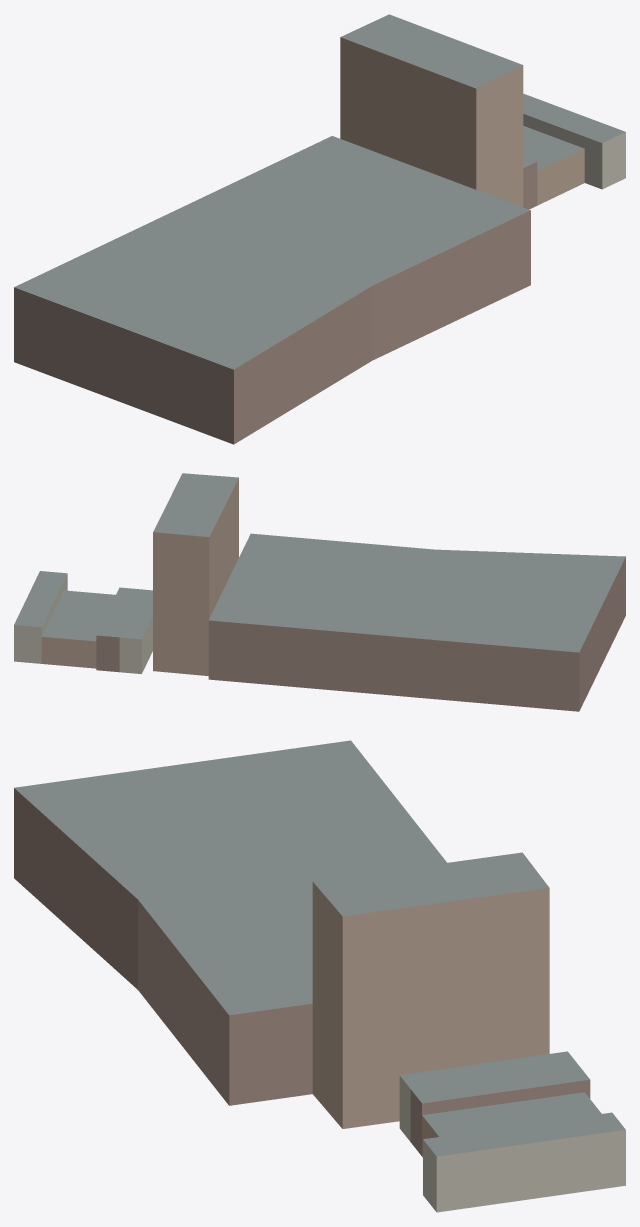
The model's file is context-1--1.gltf.
The picture shows the model from 3 angles, top to bottom: view 1: azimuth 30°, elevation 25°; view 2: azimuth 150°, elevation 25°; view 3: azimuth 270°, elevation 25°; orthographic projection. The views are drawn at different scales.
Parts seen in each view (by area): view 1: context-1--1; view 2: context-1--1; view 3: context-1--1.
Part boxes in pixels (box(x1,y1,x2,y2)): context-1--1: box(14, 14, 625, 444); context-1--1: box(14, 473, 625, 711); context-1--1: box(14, 740, 625, 1212).
Bounding box in the file's own units: 157 × 40.84 × 107.
